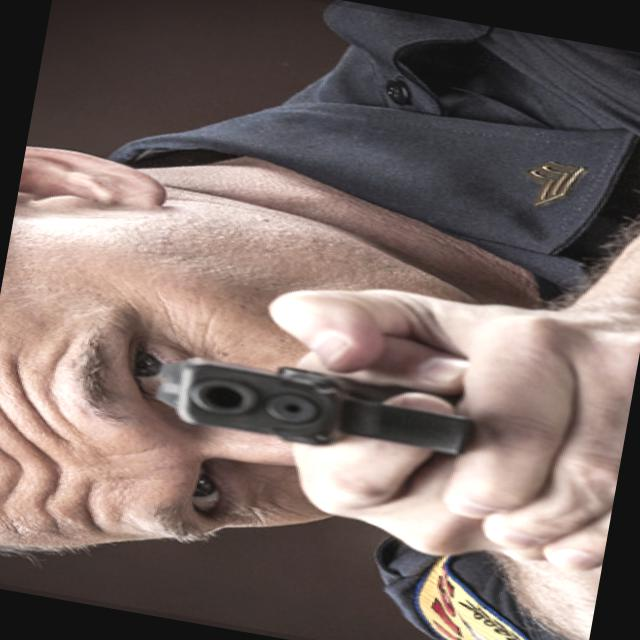handgun: (151, 339, 478, 475)
